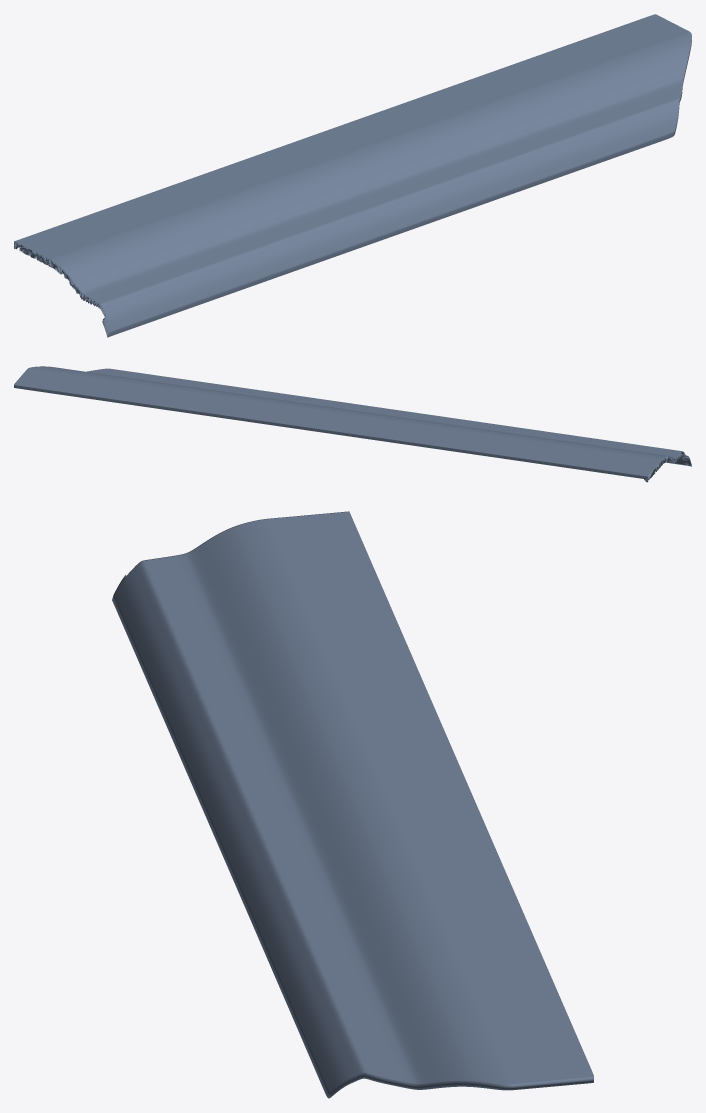
3 renders of one model, top to bottom at view 1: azimuth 30°, elevation 25°; view 2: azimuth 150°, elevation 25°; view 3: azimuth 270°, elevation 25°, orthographic. The views are drawn at different scales.
Parts seen in each view (by area): view 1: Plane.003; view 2: Plane.003; view 3: Plane.003.
Boxes of the visible parts, bbox=[...] form: Plane.003: bbox=[14, 14, 691, 337]; Plane.003: bbox=[14, 366, 691, 482]; Plane.003: bbox=[112, 511, 593, 1098].
Bounding box in the file's own units: 0.1199 × 0.00785 × 0.0432.
